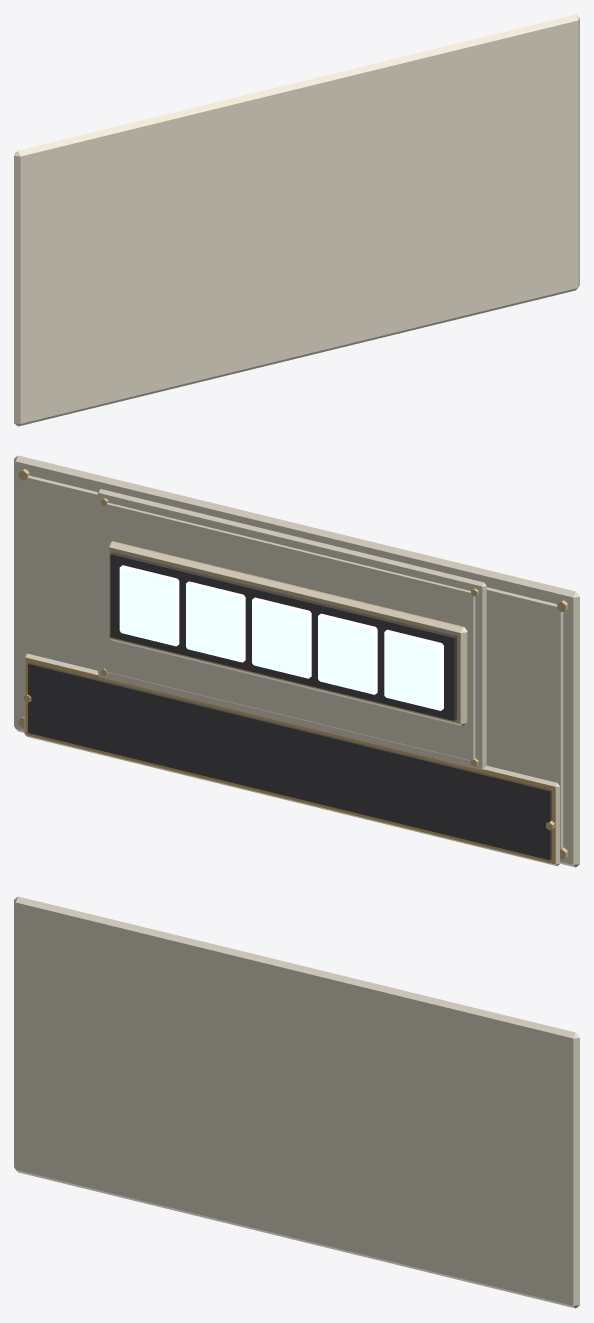
The model's file is Disp_Bar_2x1.fbx.
3 renders of one model, top to bottom at view 1: azimuth 30°, elevation 25°; view 2: azimuth 150°, elevation 25°; view 3: azimuth 330°, elevation 25°, orthographic.
Visible parts, largest first — view 1: Disp_Bar_2x1; view 2: Disp_Bar_2x1, Seg0.004, Seg2.004, Seg1.004, Seg4.004, Seg3.004; view 3: Disp_Bar_2x1.
Boxes of the visible parts, x1,y1,x2,y2 form: Disp_Bar_2x1: [14, 14, 579, 426]; Disp_Bar_2x1: [14, 455, 579, 867]; Seg0.004: [119, 565, 179, 646]; Seg2.004: [252, 597, 311, 678]; Seg1.004: [186, 581, 245, 662]; Seg4.004: [384, 629, 443, 710]; Seg3.004: [318, 613, 377, 694]; Disp_Bar_2x1: [14, 896, 579, 1308].
Bounding box in the file's own units: 2.06 × 0.96 × 0.1209.
